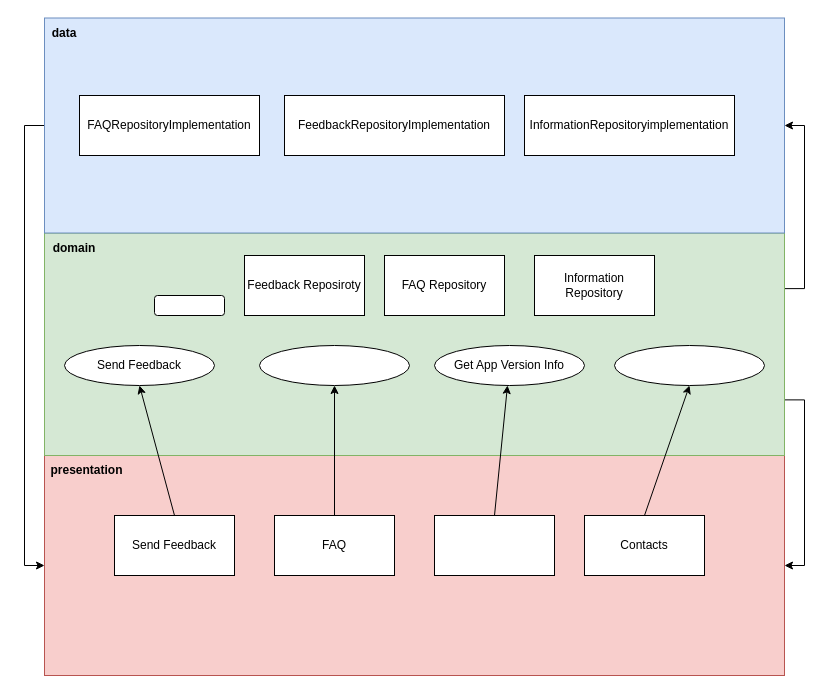
This 830x693 diagram has some shape labels left out. The shapes that lost their labels are listed below. From the top down, each one's centre as x and y in pixels, then its label:
At point 189,305: "feedback".
At point 334,365: "Get FAQ".
At point 689,365: "Get Contacts".
At point 494,545: "About App".
